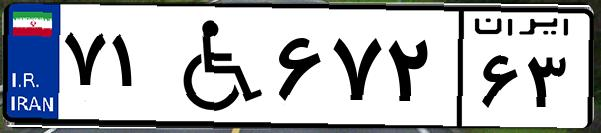1: (110, 28, 158, 98)
2: (385, 28, 445, 110)
3: (525, 38, 570, 115)
6: (270, 28, 330, 110), (475, 38, 525, 113)
7: (330, 28, 385, 110), (57, 26, 110, 100)
ژ (معلولین و جانبازان): (158, 12, 270, 120)
